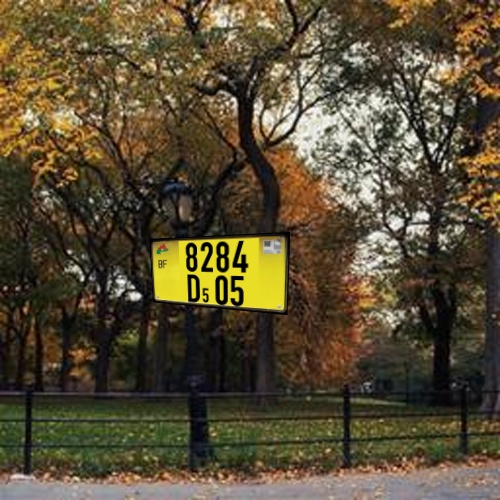plate: (142, 227, 302, 321)
